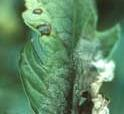Tomato leaf late blight: (2, 0, 124, 114)
